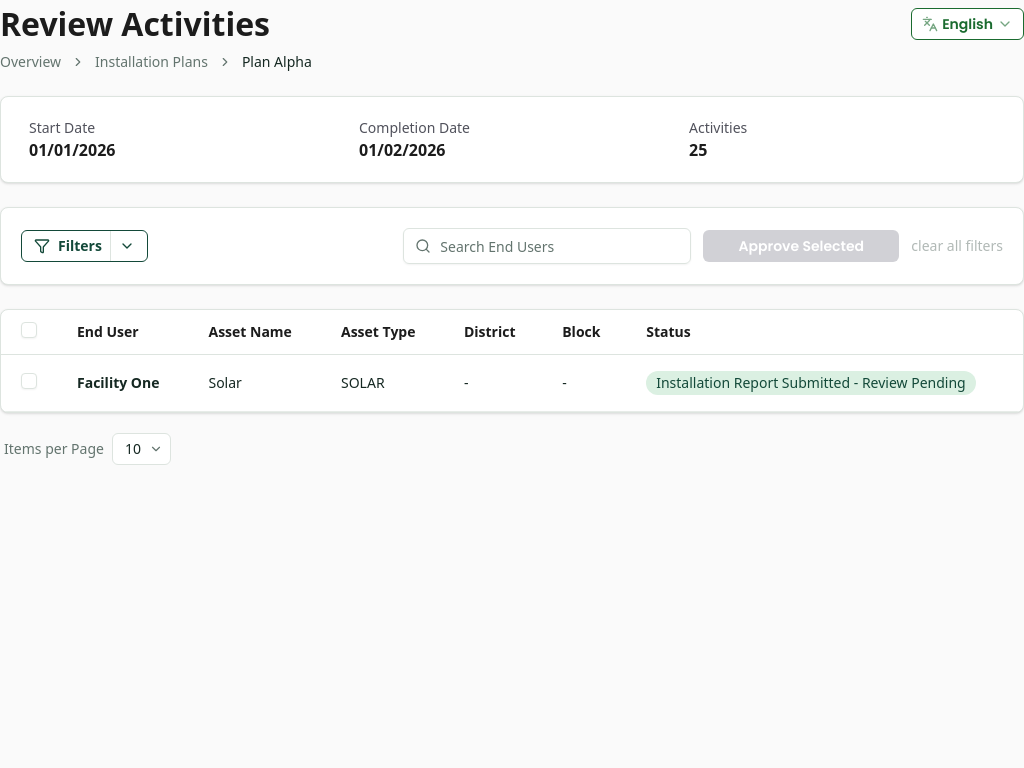
Scenario: ActivityList › bulk approve › shows a success toast, closes the dialog, and clears the selection when every activity approves
Click the checkbox next to "Facility One" at (29, 381), box x1=21 y1=373 x2=37 y2=389
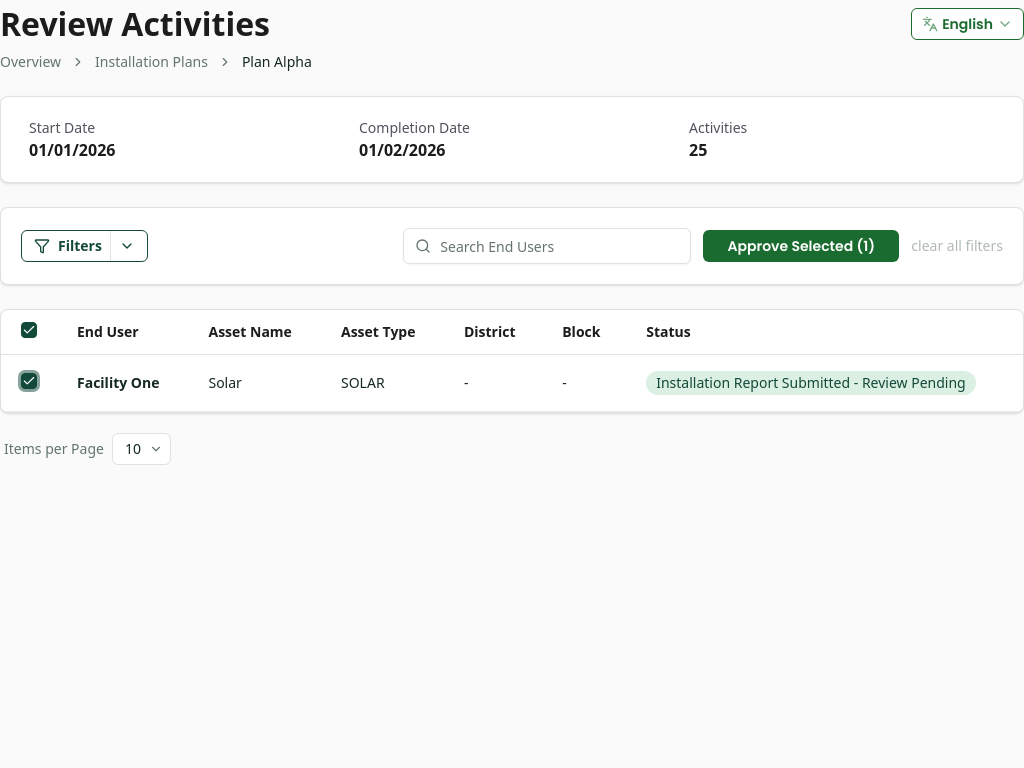
Click the button "Approve Selected (1)" at (801, 246), box x1=703 y1=230 x2=899 y2=262
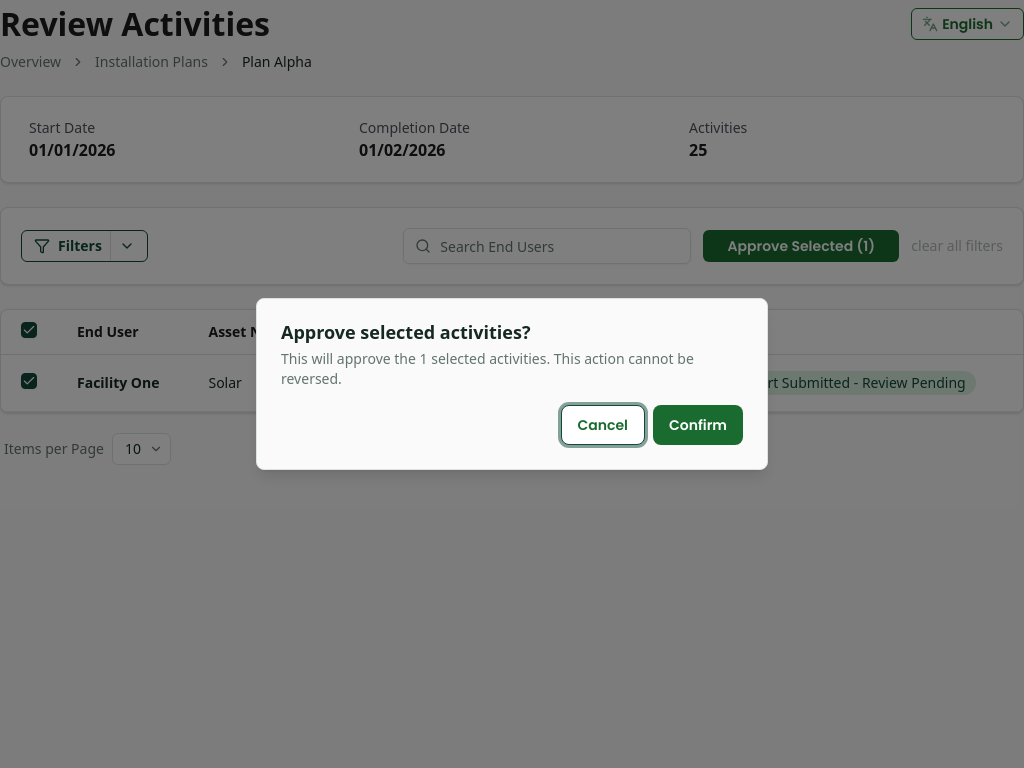
Click the button "Confirm" at (698, 425), box x1=653 y1=405 x2=743 y2=445
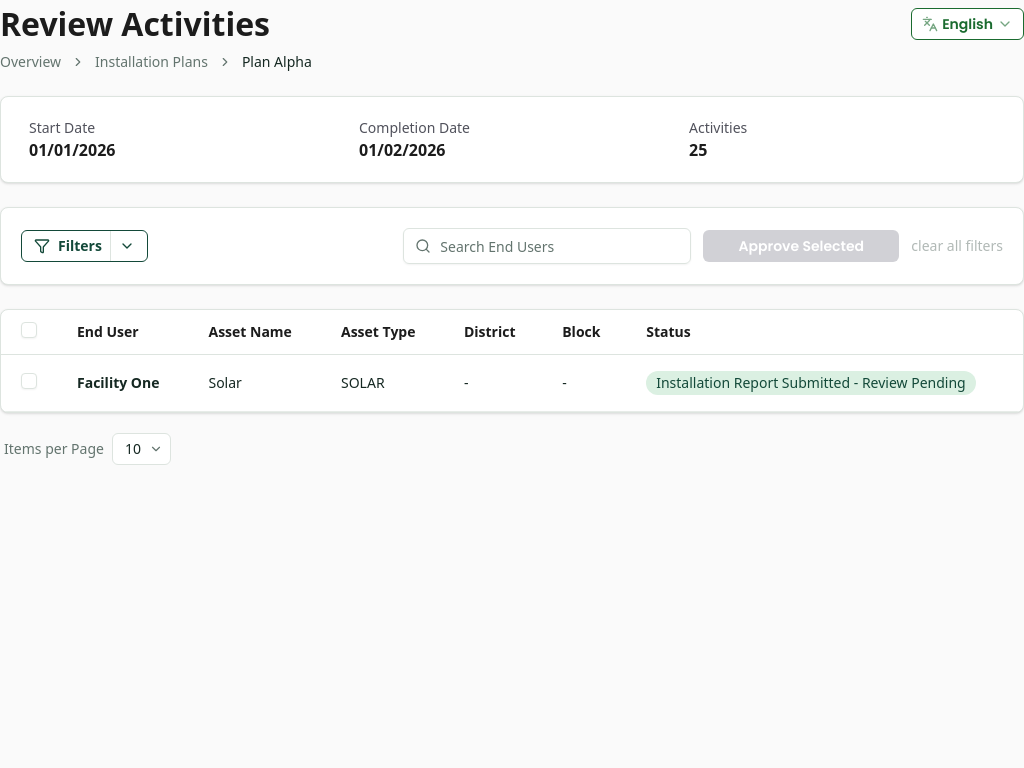
Expected: the button "Approve Selected" is shown, x1=703 y1=230 x2=899 y2=262
Now the checkbox next to "Facility One" is not checked, box x1=21 y1=373 x2=37 y2=389
Now the heading "Approve selected activities?" is gone
